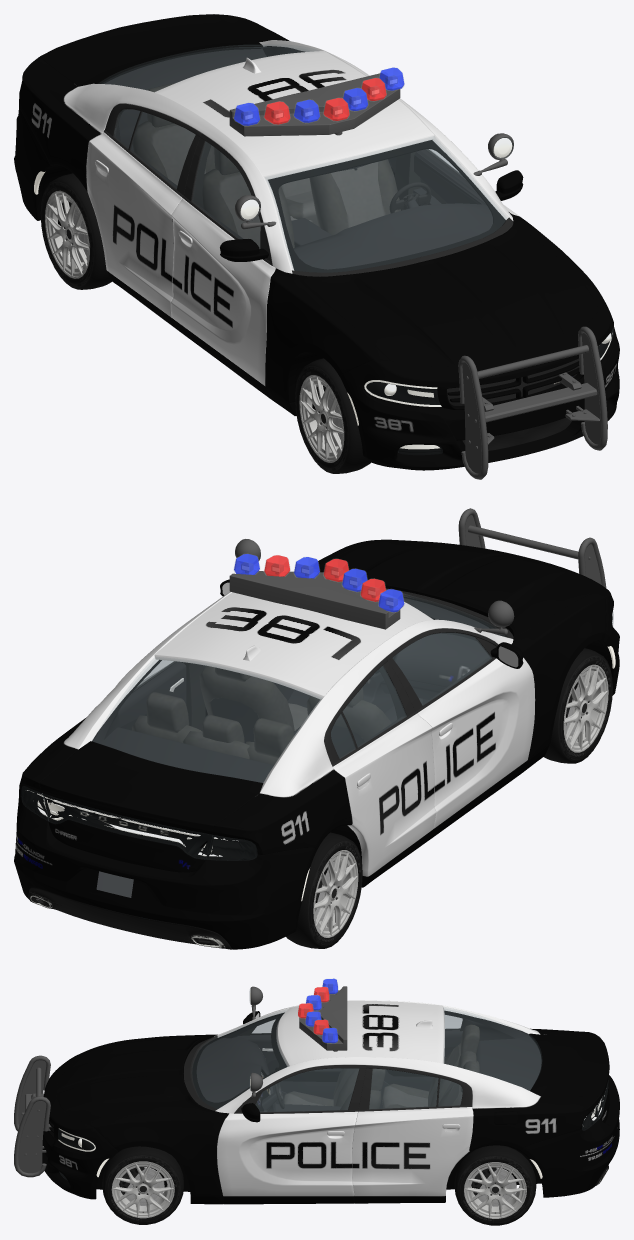
Rendered from police.glb.
3 views of the same model, one above another, from view 1: azimuth 30°, elevation 25°; view 2: azimuth 150°, elevation 25°; view 3: azimuth 270°, elevation 25° (orthographic). The views are drawn at different scales.
Parts seen in each view (by area): view 1: Vehicle_Base--MI_ChargerCop_Bodywork, Vehicle_Base--MI_ChargerCop_Interior, SM_ChargerCop_Glass1--0--component-4, Vehicle_Base--MI_ChargerCop_Props, SM_DoorFR--0, SM_DoorRR--1, Wheel_Front_Right--MI_ChargerCop_Interior, Wheel_Rear_Right--MI_ChargerCop_Interior, SM_ChargerCop_Glass1--0--component-1, SM_ChargerCop_Glass1--1, SM_DoorFL--1, SM_DoorGlass_Ext1_RR--0 (+9 smaller); view 2: Vehicle_Base--MI_ChargerCop_Bodywork, Vehicle_Base--MI_ChargerCop_Interior, SM_ChargerCop_Glass1--0--component-1, SM_DoorFR--0, SM_DoorRR--1, Vehicle_Base--MI_ChargerCop_Props, Wheel_Rear_Right--MI_ChargerCop_Interior, Wheel_Front_Right--MI_ChargerCop_Interior, SM_ChargerCop_Glass1--0--component-0, SM_ChargerCop_Glass1--1, SM_ChargerCop_Glass1--0--component-4, SM_DoorGlass_Ext1_RR--0 (+9 smaller); view 3: Vehicle_Base--MI_ChargerCop_Bodywork, Vehicle_Base--MI_ChargerCop_Interior, SM_DoorFL--0, SM_DoorRL--1, SM_ChargerCop_Glass1--0--component-4, Vehicle_Base--MI_ChargerCop_Props, SM_ChargerCop_Glass1--0--component-1, Wheel_Rear_Left--MI_ChargerCop_Interior, Wheel_Front_Left--MI_ChargerCop_Interior, SM_DoorGlass_Ext1_LF--0, SM_DoorFR--1, SM_DoorGlass_Ext1_LR--0 (+8 smaller).
Boxes of the visible parts, left/top/right/bottom form: Vehicle_Base--MI_ChargerCop_Bodywork: left=14, top=14, right=619, bottom=470; Vehicle_Base--MI_ChargerCop_Interior: left=42, top=46, right=613, bottom=452; SM_ChargerCop_Glass1--0--component-4: left=195, top=136, right=513, bottom=271; Vehicle_Base--MI_ChargerCop_Props: left=229, top=73, right=607, bottom=479; SM_DoorFR--0: left=171, top=198, right=275, bottom=385; SM_DoorRR--1: left=86, top=132, right=181, bottom=316; Wheel_Front_Right--MI_ChargerCop_Interior: left=295, top=358, right=370, bottom=473; Wheel_Rear_Right--MI_ChargerCop_Interior: left=40, top=173, right=111, bottom=289; SM_ChargerCop_Glass1--0--component-1: left=98, top=45, right=317, bottom=91; SM_ChargerCop_Glass1--1: left=233, top=67, right=404, bottom=125; SM_DoorFL--1: left=413, top=149, right=508, bottom=205; SM_DoorGlass_Ext1_RR--0: left=114, top=109, right=194, bottom=188; Vehicle_Base--MI_ChargerCop_Bodywork: left=14, top=539, right=619, bottom=949; Vehicle_Base--MI_ChargerCop_Interior: left=22, top=588, right=612, bottom=949; SM_ChargerCop_Glass1--0--component-1: left=92, top=657, right=321, bottom=782; SM_DoorFR--0: left=417, top=642, right=535, bottom=828; SM_DoorRR--1: left=333, top=713, right=436, bottom=876; Vehicle_Base--MI_ChargerCop_Props: left=229, top=508, right=606, bottom=635; Wheel_Rear_Right--MI_ChargerCop_Interior: left=286, top=832, right=362, bottom=948; Wheel_Front_Right--MI_ChargerCop_Interior: left=544, top=648, right=612, bottom=763; SM_ChargerCop_Glass1--0--component-0: left=22, top=786, right=256, bottom=860; SM_ChargerCop_Glass1--1: left=233, top=554, right=404, bottom=612; SM_ChargerCop_Glass1--0--component-4: left=386, top=589, right=505, bottom=695; SM_DoorGlass_Ext1_RR--0: left=331, top=666, right=406, bottom=754; Vehicle_Base--MI_ChargerCop_Bodywork: left=42, top=1000, right=619, bottom=1204; Vehicle_Base--MI_ChargerCop_Interior: left=42, top=1010, right=608, bottom=1191; SM_DoorFL--0: left=217, top=1103, right=357, bottom=1196; SM_DoorRL--1: left=352, top=1107, right=473, bottom=1196; SM_ChargerCop_Glass1--0--component-4: left=192, top=988, right=354, bottom=1111; Vehicle_Base--MI_ChargerCop_Props: left=14, top=984, right=347, bottom=1177; SM_ChargerCop_Glass1--0--component-1: left=444, top=1007, right=541, bottom=1089; Wheel_Rear_Left--MI_ChargerCop_Interior: left=454, top=1145, right=536, bottom=1225; Wheel_Front_Left--MI_ChargerCop_Interior: left=102, top=1146, right=183, bottom=1224; SM_DoorGlass_Ext1_LF--0: left=257, top=1069, right=358, bottom=1111; SM_DoorFR--1: left=238, top=1011, right=342, bottom=1103; SM_DoorGlass_Ext1_LR--0: left=370, top=1071, right=461, bottom=1108.
Size of the model in its own units: 2.1 by 1.68 by 5.24.
10 materials, 3 textured.
